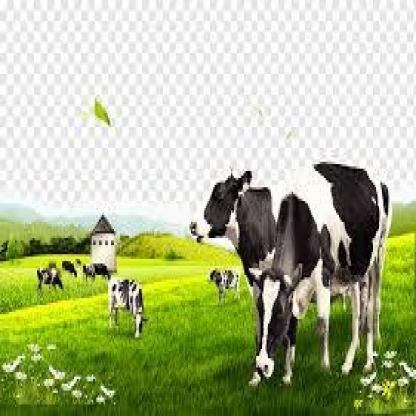cow: (190, 171, 393, 365), (248, 267, 303, 392), (109, 280, 149, 338), (206, 270, 244, 300), (34, 267, 67, 292), (81, 258, 114, 280), (59, 257, 77, 278)
